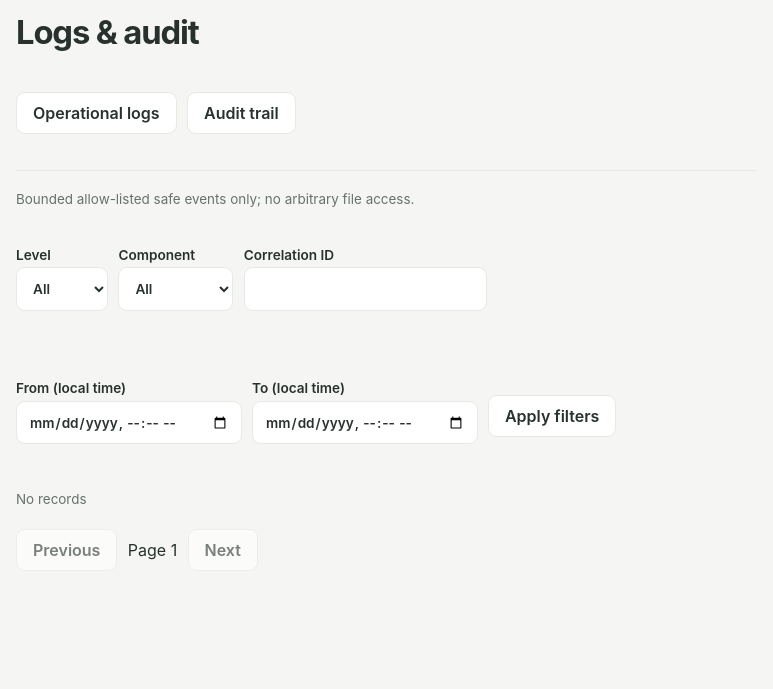
Test: safe operational console states › Logs distinguishes successful empty data from failure and clears previous rows
Expected: the text "No records" is shown, [16, 491, 86, 507]
Click the button "Apply filters". click: [552, 416]
box: [488, 395, 616, 437]
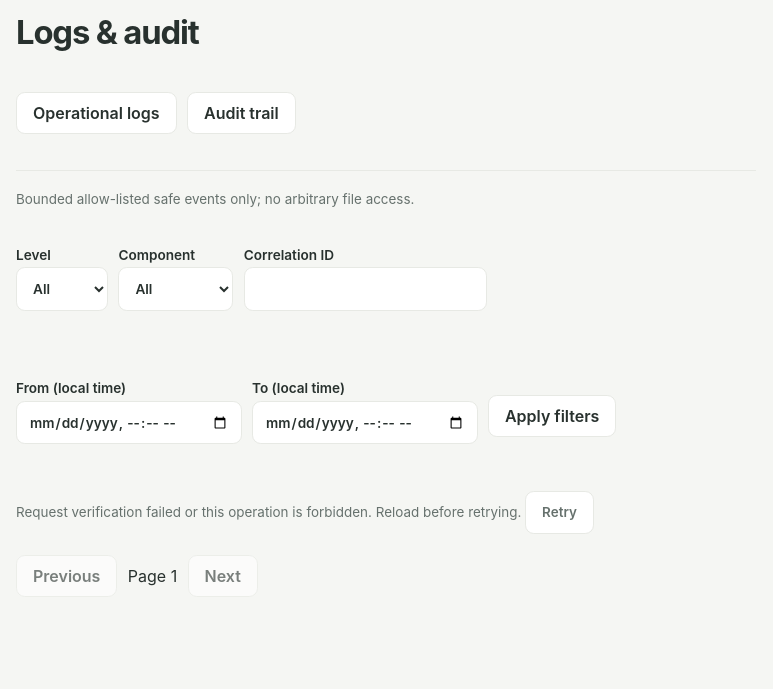
Now the message shows "Request verification failed", box [16, 504, 521, 520]
Now the text "No records" is gone
Click the button "Audit trail". click: [241, 113]
box: [187, 92, 296, 134]
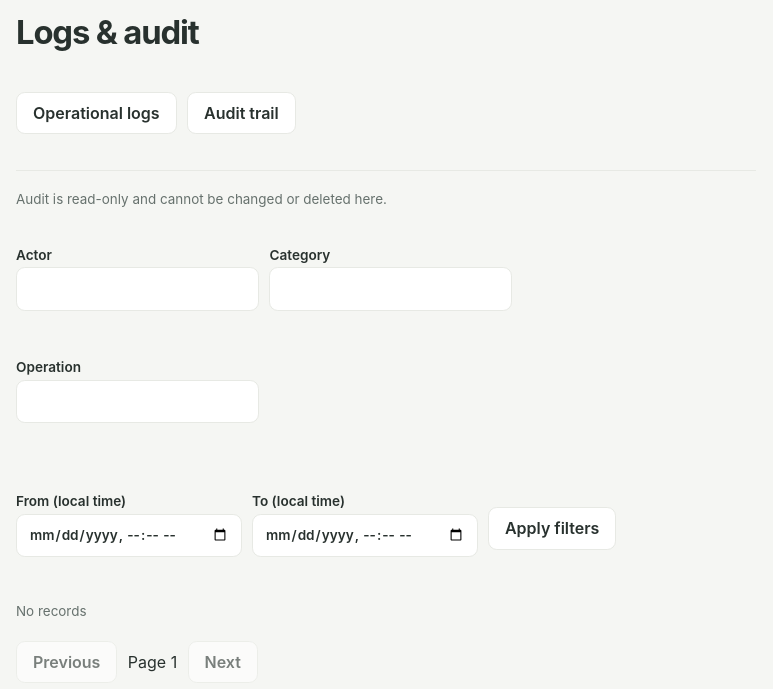
Now the text "No records" is shown, box [16, 603, 86, 619]
